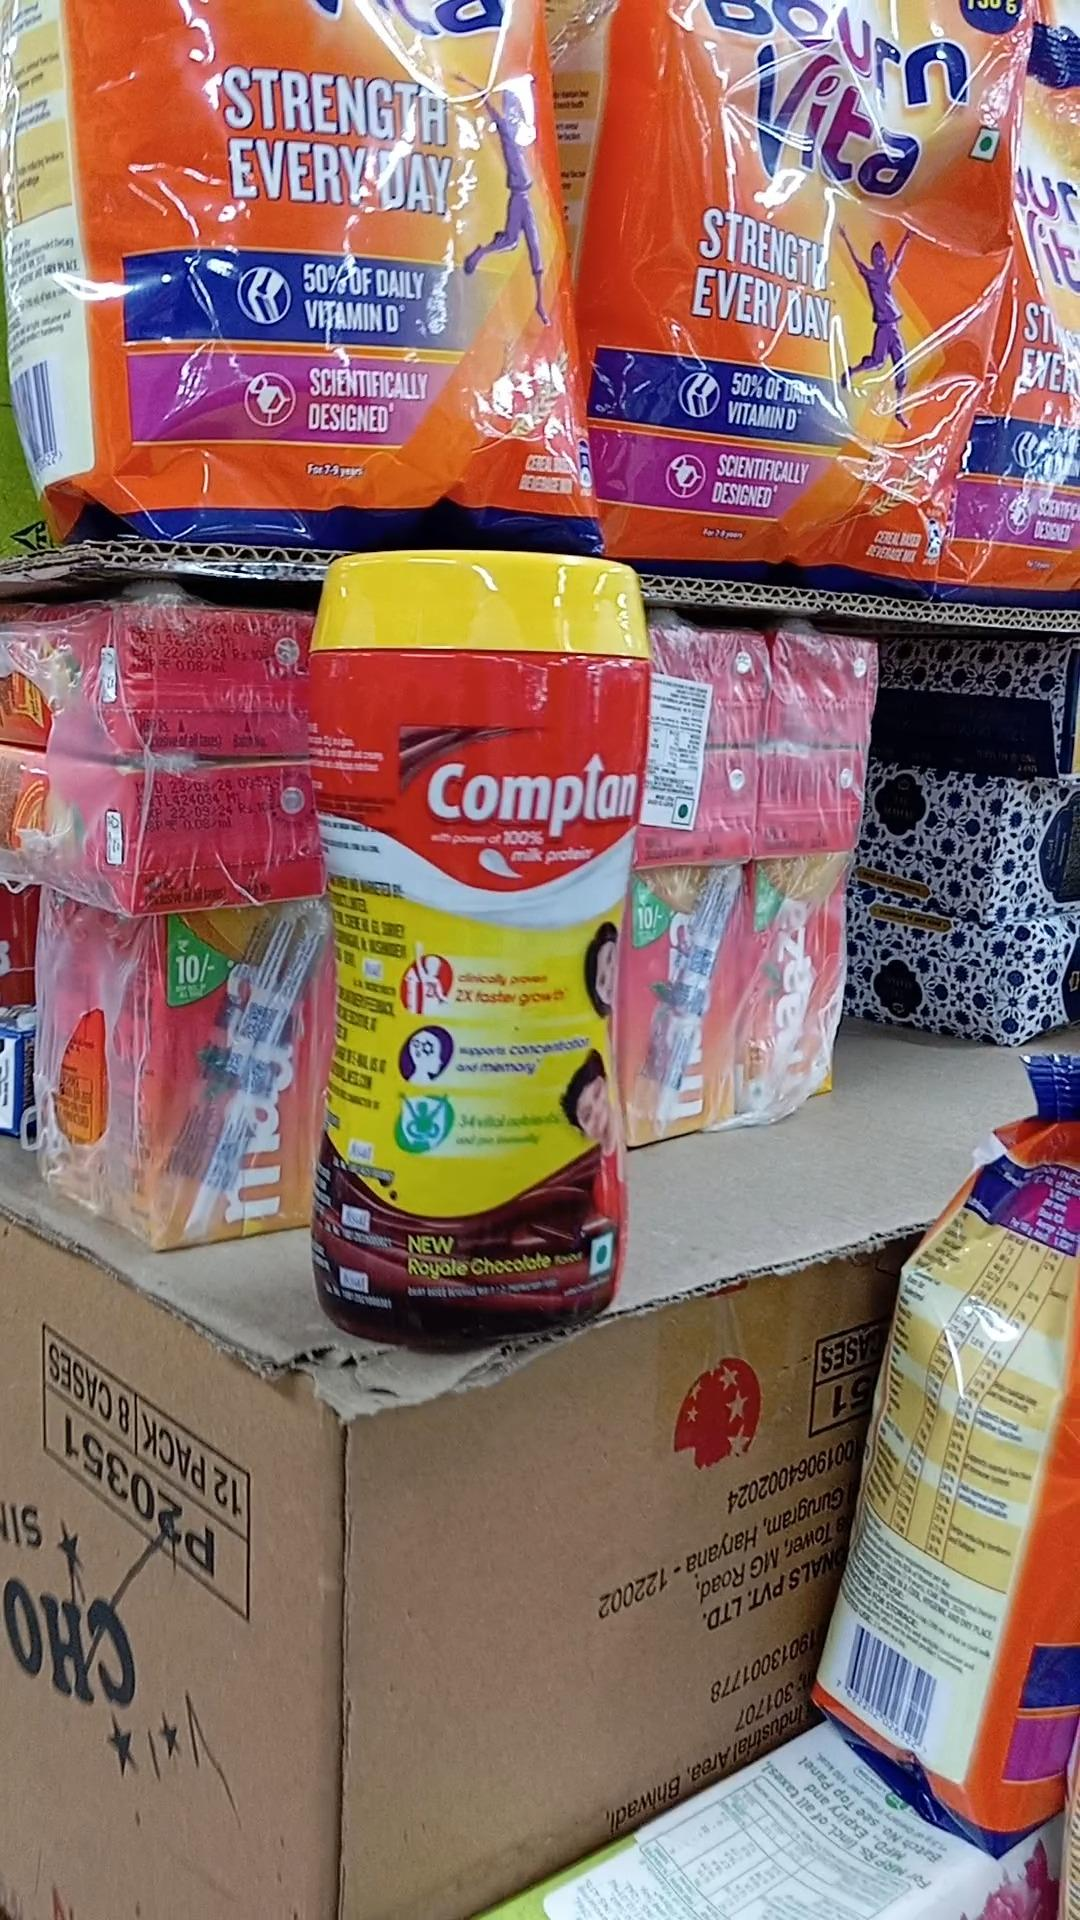COMPLAN_CHOCOLATE_200_GMS_JAR: (322, 546, 620, 1321)
